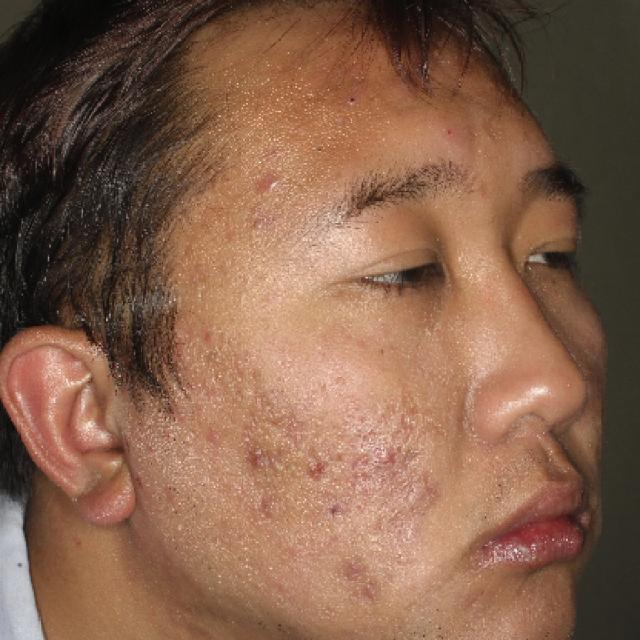Acne: (230, 431, 282, 485), (331, 545, 375, 586), (249, 166, 294, 205), (353, 572, 394, 610), (297, 451, 331, 484), (371, 437, 401, 472)
Blackheads: (315, 497, 351, 528), (337, 89, 372, 114)
